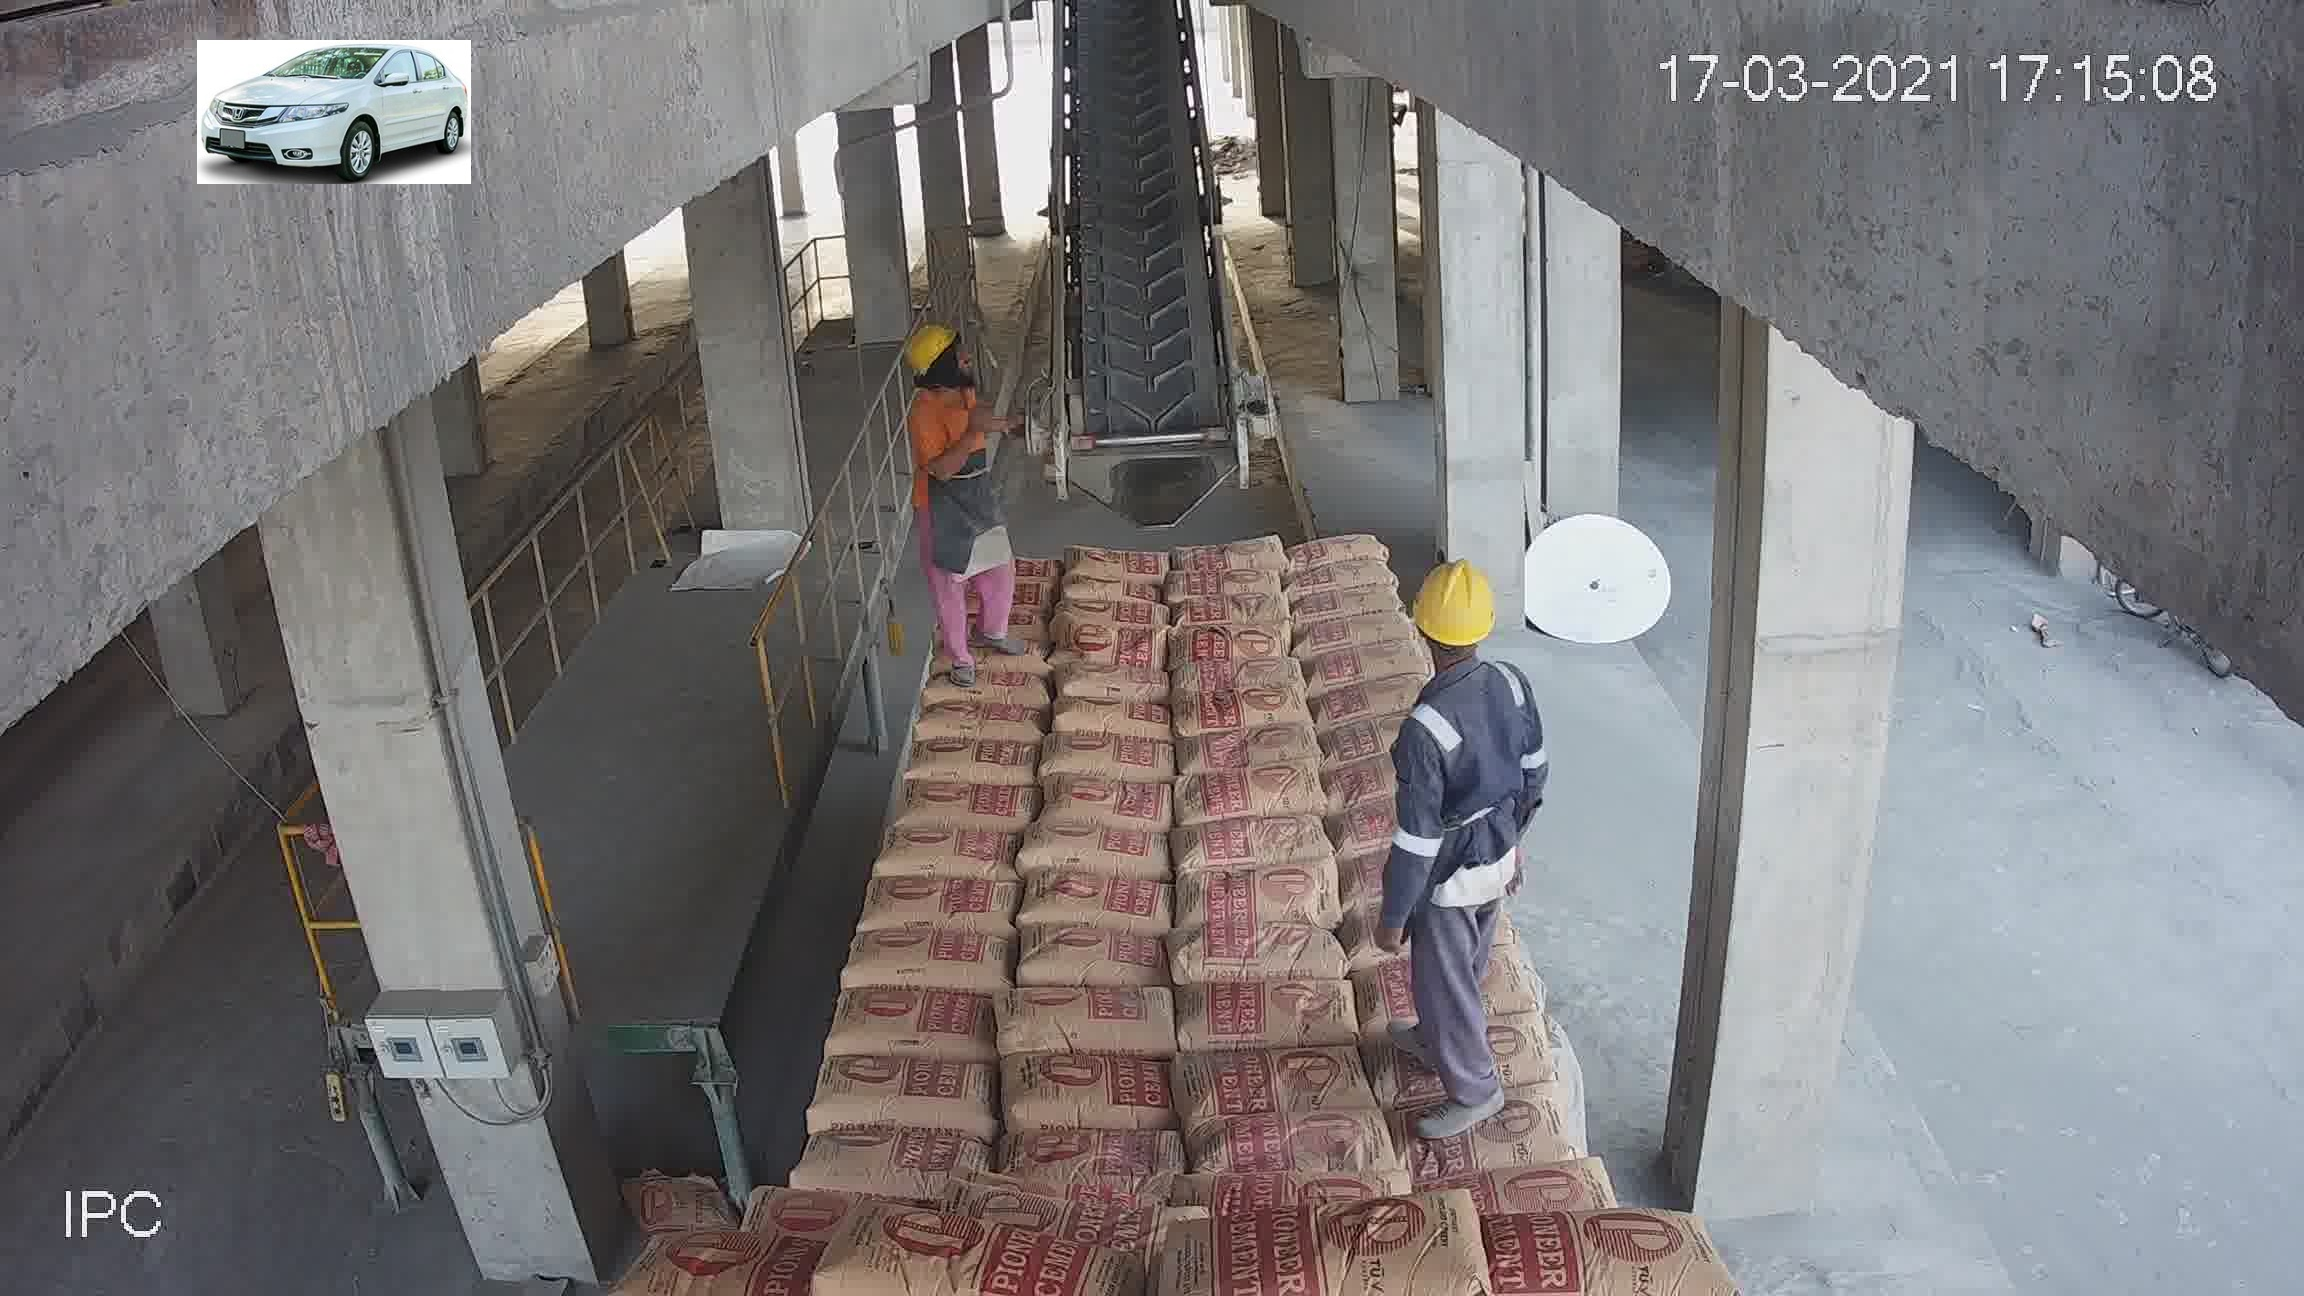bag_h: (1196, 1204, 1510, 1296), (804, 1218, 1119, 1294), (1440, 1211, 1700, 1293), (802, 1054, 1013, 1138), (1397, 1087, 1582, 1182), (635, 1223, 853, 1294), (1192, 1046, 1369, 1131), (1203, 1109, 1396, 1187), (1173, 975, 1366, 1051), (1008, 1051, 1188, 1131), (999, 986, 1185, 1062), (788, 1127, 1000, 1188), (853, 873, 1029, 948), (995, 1120, 1187, 1188), (1173, 924, 1359, 994), (831, 980, 1000, 1055), (1173, 807, 1340, 881), (1435, 1158, 1616, 1225), (1180, 861, 1340, 934), (839, 927, 1013, 994), (1184, 758, 1332, 826), (1022, 817, 1165, 885), (1013, 934, 1174, 991), (1022, 873, 1180, 930), (1044, 772, 1184, 834), (902, 734, 1051, 791), (894, 782, 1041, 837), (873, 831, 1021, 883), (910, 696, 1059, 745), (1168, 654, 1305, 703), (1063, 611, 1169, 673), (1177, 688, 1313, 734), (1188, 725, 1320, 772), (924, 666, 1060, 711), (1060, 657, 1176, 707), (1051, 741, 1177, 786), (1309, 631, 1416, 684), (1166, 619, 1291, 663), (1301, 608, 1402, 660), (1312, 673, 1423, 720), (1052, 698, 1161, 744), (1063, 540, 1174, 584), (937, 633, 1048, 676), (1184, 527, 1313, 562), (1168, 590, 1291, 627), (1287, 524, 1391, 567), (1290, 555, 1399, 595), (1302, 582, 1402, 623), (1059, 600, 1176, 635), (1169, 567, 1282, 601), (1054, 574, 1165, 608)
belt: (1044, 24, 1241, 487)
